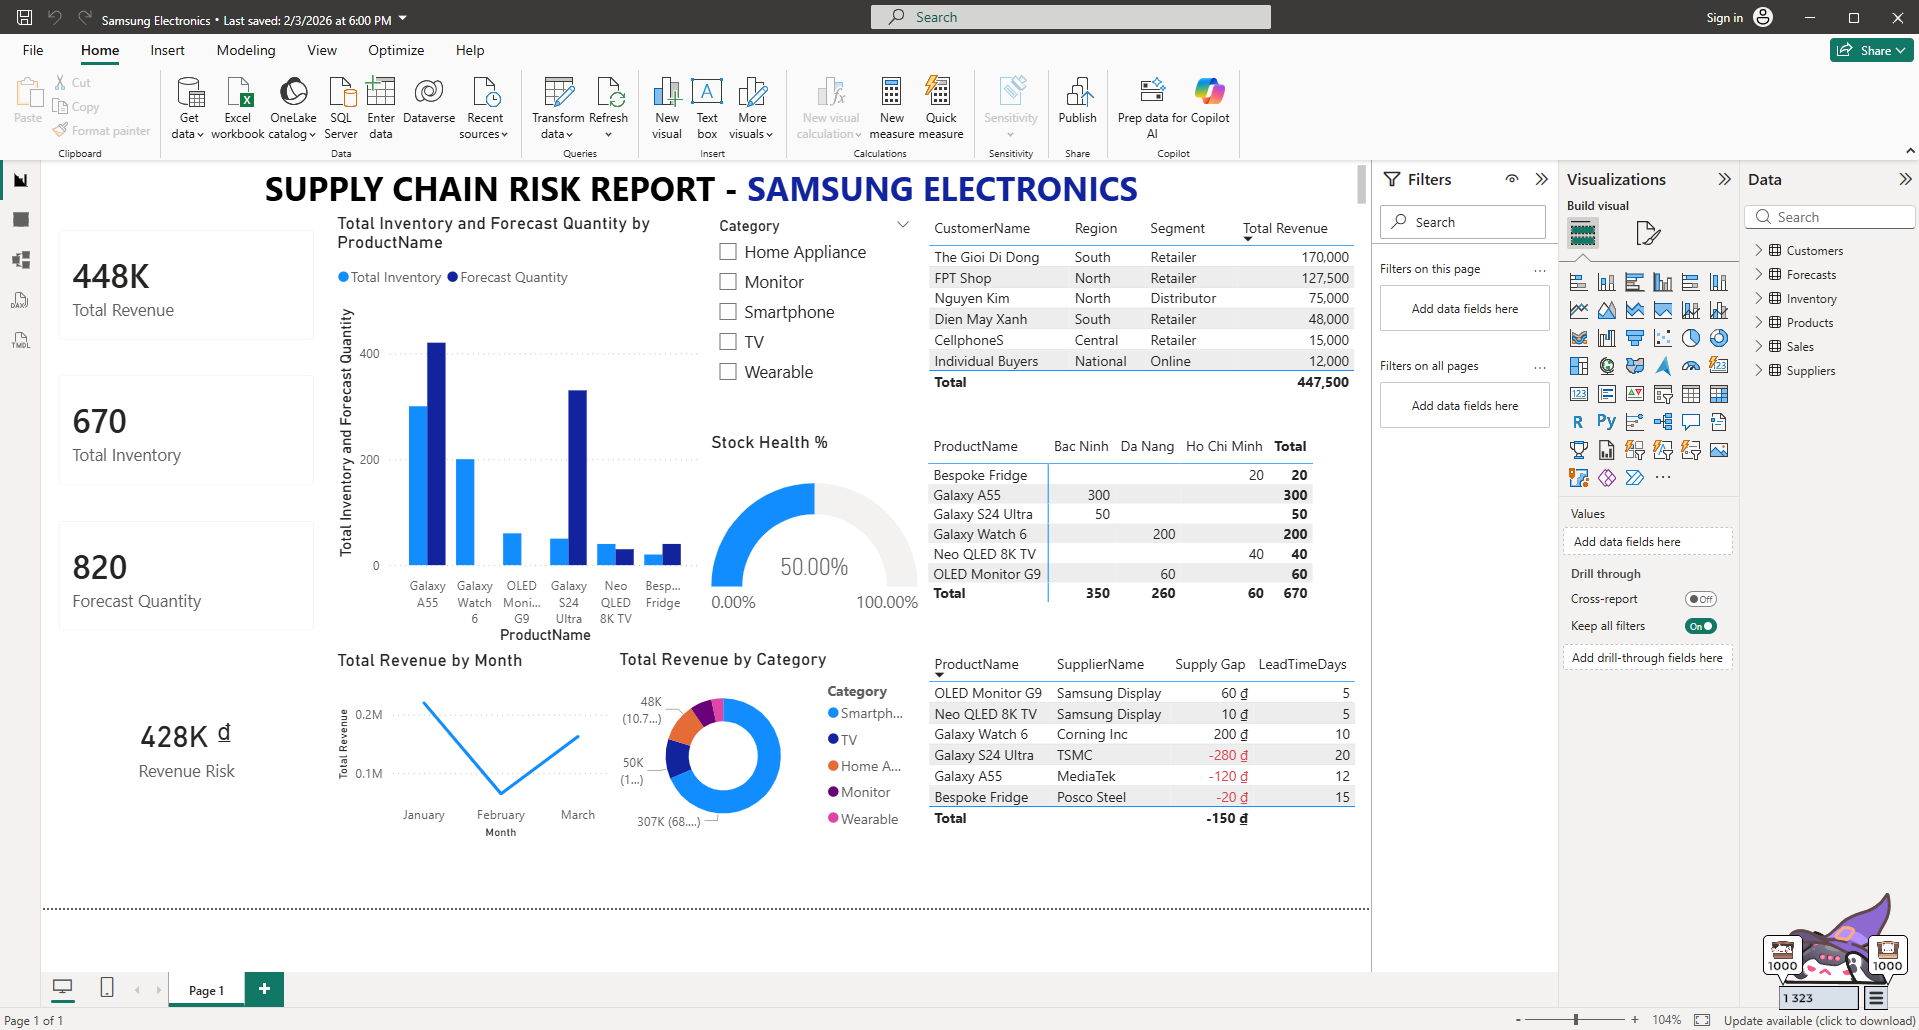

This screenshot's page, from the dashboard's own definition file:
{"tool":"powerbi","page":{"name":"Page 1","canvas":[1280,720],"ordinal":0},"visuals":[{"type":"lineClusteredColumnComboChart","fields":{"Category":["Products.ProductName"],"Y":["Inventory.Total Inventory","Forecasts.Forecast Quantity"]},"box":[280.1,49.8,359.9,420.2],"z":0},{"type":"cardVisual","fields":{"Data":["Sales.Total Revenue"]},"box":[0,49.8,280.1,140.1],"z":1000},{"type":"cardVisual","fields":{"Data":["Forecasts.Forecast Quantity"]},"box":[0,330,280.1,140.1],"z":2000},{"type":"cardVisual","fields":{"Data":["Inventory.Total Inventory"]},"box":[0,189.9,280.1,140.1],"z":3000},{"type":"tableEx","fields":{"Values":["Products.ProductName","Suppliers.SupplierName","Products.Supply Gap","Suppliers.LeadTimeDays"]},"box":[848.8,469.7,431.2,187.7],"z":4000},{"type":"textbox","box":[0,0,1280,49.6],"z":5000},{"type":"slicer","fields":{"Values":["Products.Category"]},"box":[640,50,208.8,209.8],"z":6000},{"type":"tableEx","fields":{"Values":["Customers.CustomerName","Customers.Region","Customers.Segment","Sales.Total Revenue"]},"box":[848.8,50,431.2,209.8],"z":7000},{"type":"card","fields":{"Values":["Sales.Revenue Risk"]},"box":[0,469.7,280.1,187.7],"z":8000},{"type":"donutChart","fields":{"Category":["Products.Category"],"Y":["Sales.Total Revenue"]},"box":[551.5,469.7,297.4,186.7],"z":9000},{"type":"lineChart","fields":{"Category":["Sales.Date.Variation.Date Hierarchy.Month","Sales.Date.Variation.Date Hierarchy.Day"],"Y":["Sales.Total Revenue"]},"box":[280.1,470.6,271.4,186.7],"z":10000},{"type":"pivotTable","fields":{"Rows":["Products.ProductName"],"Columns":["Inventory.Warehouse"],"Values":["Inventory.Total Inventory"]},"box":[848.8,259.8,431.2,209.8],"z":11000},{"type":"gauge","fields":{"Y":["Inventory.Stock Health %"]},"box":[640,260.8,208.8,209.8],"z":12000}]}

Visuals, with their boxes on the page's 1280x720 design canvas (x1, y1, x2, y2). These are canvas units, not pixel positions in the 1919x1030 screenshot, which may show the page scaled, cropped or inside an application window:
lineClusteredColumnComboChart - Products.ProductName x Inventory.Total Inventory: <region>280, 50, 640, 470</region>
cardVisual - Sales.Total Revenue: <region>0, 50, 280, 190</region>
cardVisual - Forecasts.Forecast Quantity: <region>0, 330, 280, 470</region>
cardVisual - Inventory.Total Inventory: <region>0, 190, 280, 330</region>
tableEx - Products.ProductName x Suppliers.SupplierName: <region>849, 470, 1280, 657</region>
textbox: <region>0, 0, 1280, 50</region>
slicer - Products.Category: <region>640, 50, 849, 260</region>
tableEx - Customers.CustomerName x Customers.Region: <region>849, 50, 1280, 260</region>
card - Sales.Revenue Risk: <region>0, 470, 280, 657</region>
donutChart - Products.Category x Sales.Total Revenue: <region>552, 470, 849, 656</region>
lineChart - Sales.Date.Variation.Date Hierarchy.Month x Sales.Date.Variation.Date Hierarchy.Day: <region>280, 471, 552, 657</region>
pivotTable - Products.ProductName x Inventory.Warehouse: <region>849, 260, 1280, 470</region>
gauge - Inventory.Stock Health %: <region>640, 261, 849, 471</region>
